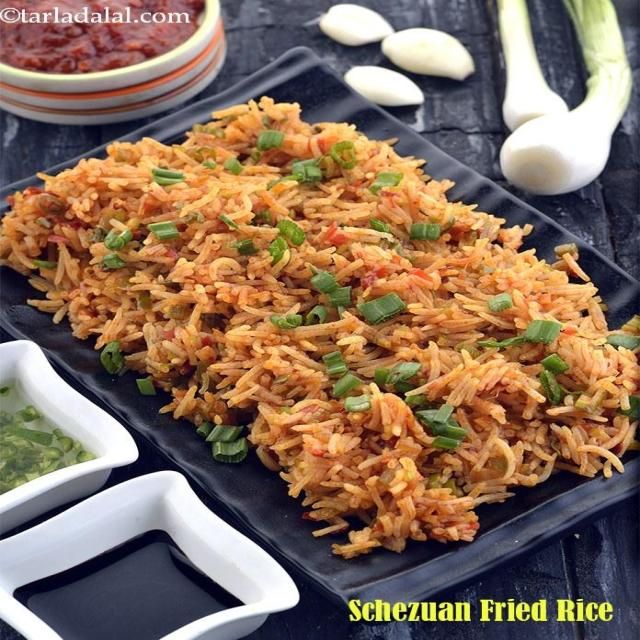Nasi Goreng: (2, 95, 638, 559)
